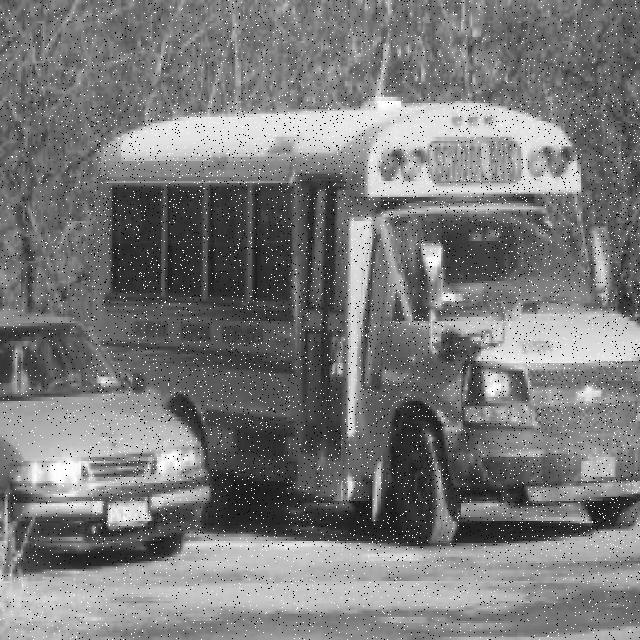Bus- Small: (91, 100, 640, 549)
